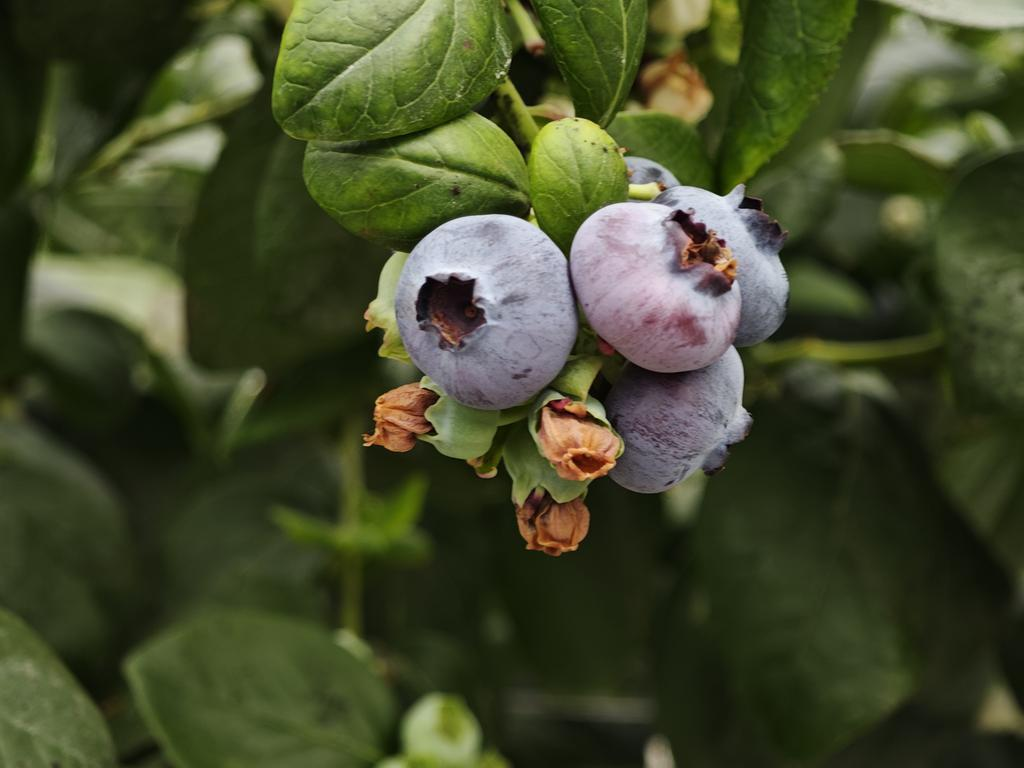RipeBlueBerry: (391, 209, 577, 411), (570, 199, 746, 376), (582, 343, 757, 496)
